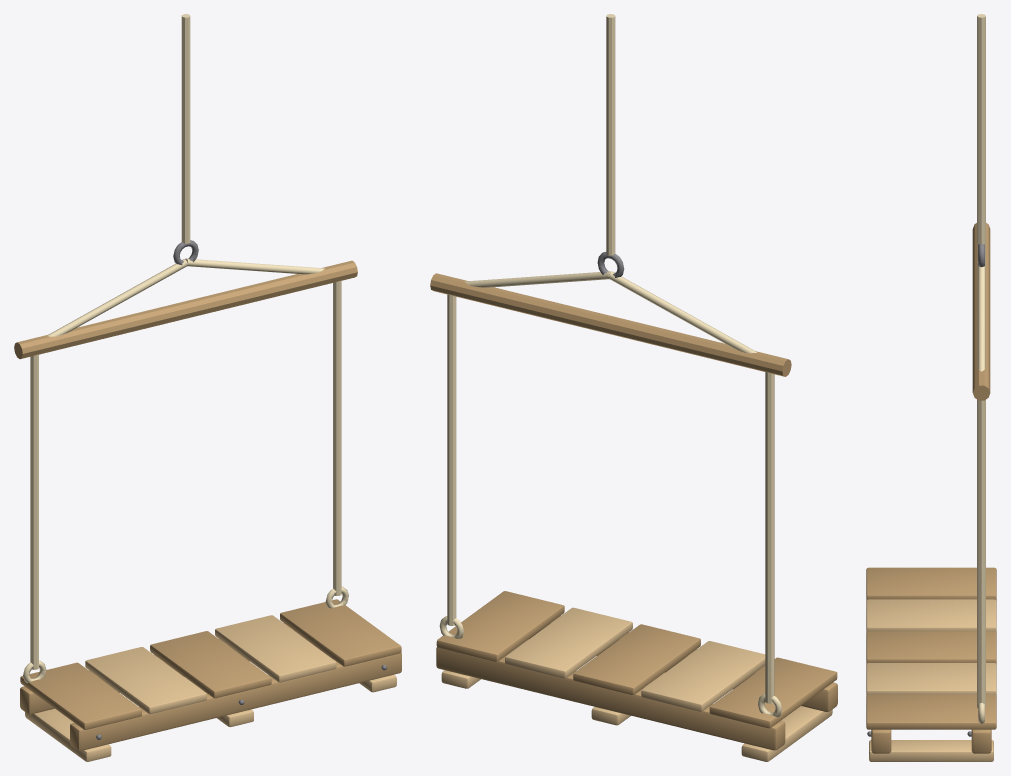
File: lift.glb
3 renders of one model, left to right at view 1: azimuth 30°, elevation 25°; view 2: azimuth 150°, elevation 25°; view 3: azimuth 270°, elevation 25°, orthographic. The views are drawn at different scales.
Parts seen in each view (by area): view 1: lift, rope; view 2: lift, rope; view 3: lift, rope.
Part boxes in pixels (left/top/right/bottom): lift: left=14, top=240, right=401, bottom=761; rope: left=181, top=14, right=190, bottom=243; lift: left=430, top=252, right=837, bottom=761; rope: left=606, top=14, right=615, bottom=255; lift: left=866, top=223, right=996, bottom=761; rope: left=977, top=14, right=985, bottom=244.
Size of the model in its own units: 1.55 by 2.95 by 0.52.
